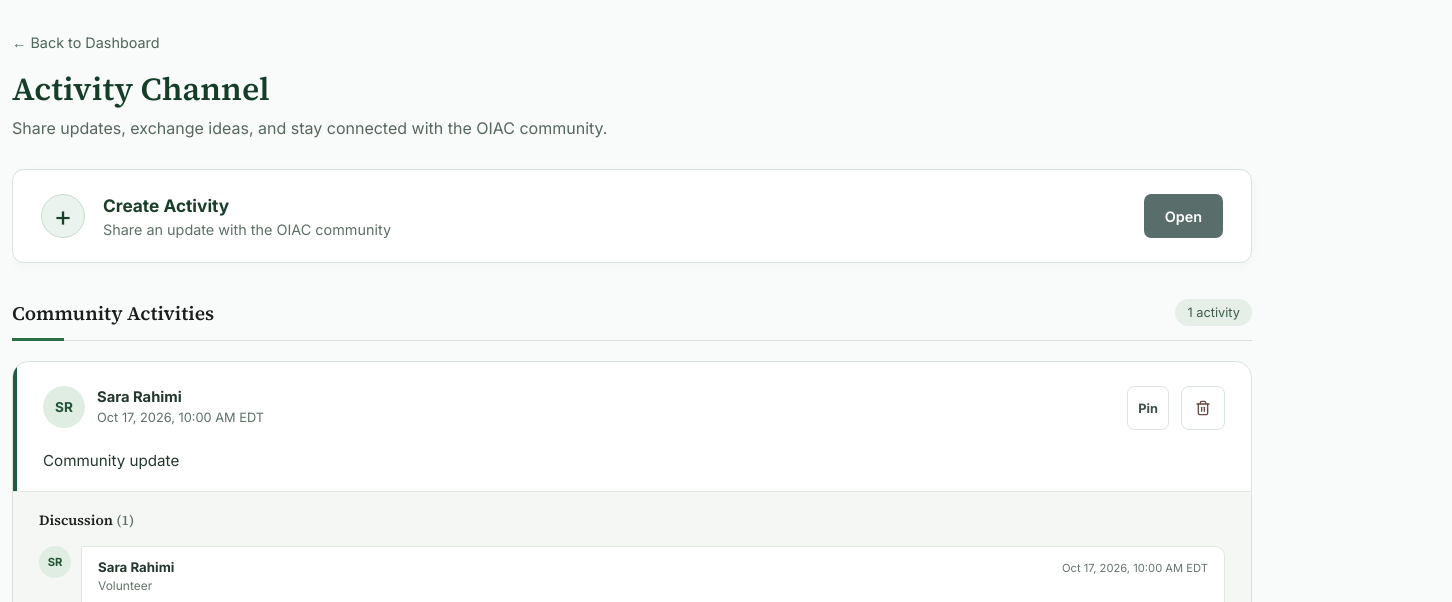
Test case: empty composer cannot submit; failed save retains content and retry identity
Click the button with aria-label "Create Activity" at point(1183, 216), box [1144,194,1223,238]
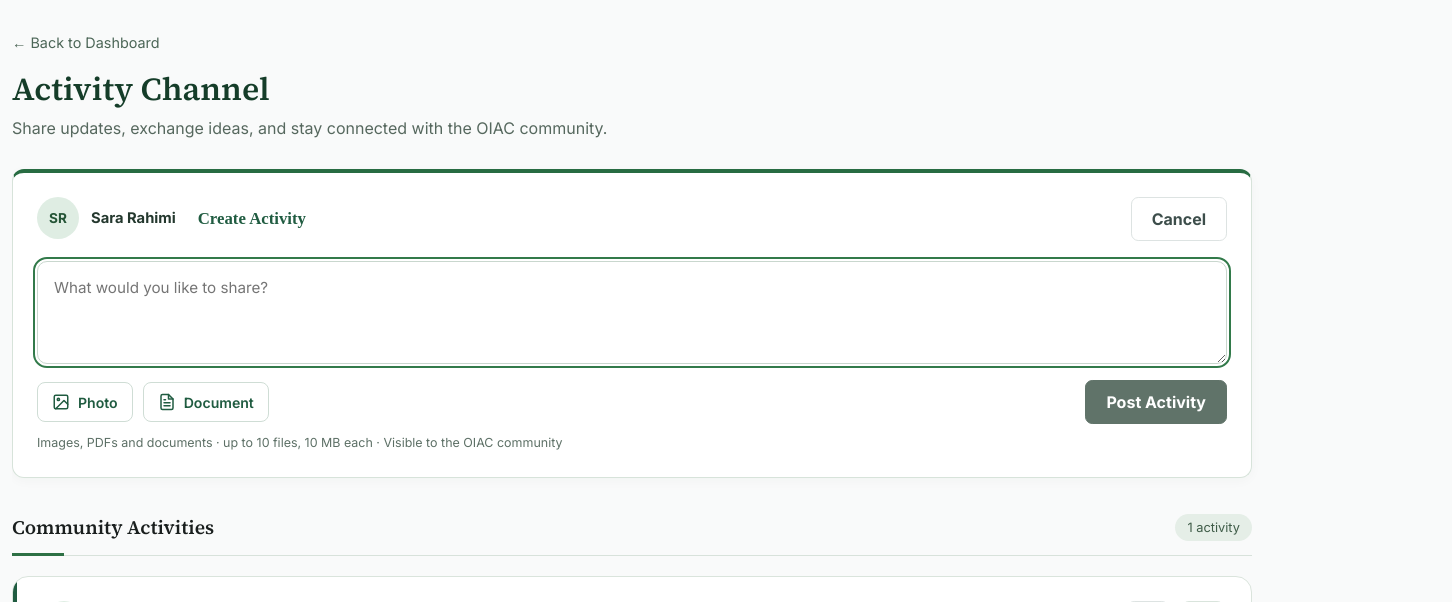
Check: the button "Post Activity" is disabled, box [1085,380,1227,424]
Type "New update" into the text box named "Activity content" at point(632, 313), box [37,261,1227,364]
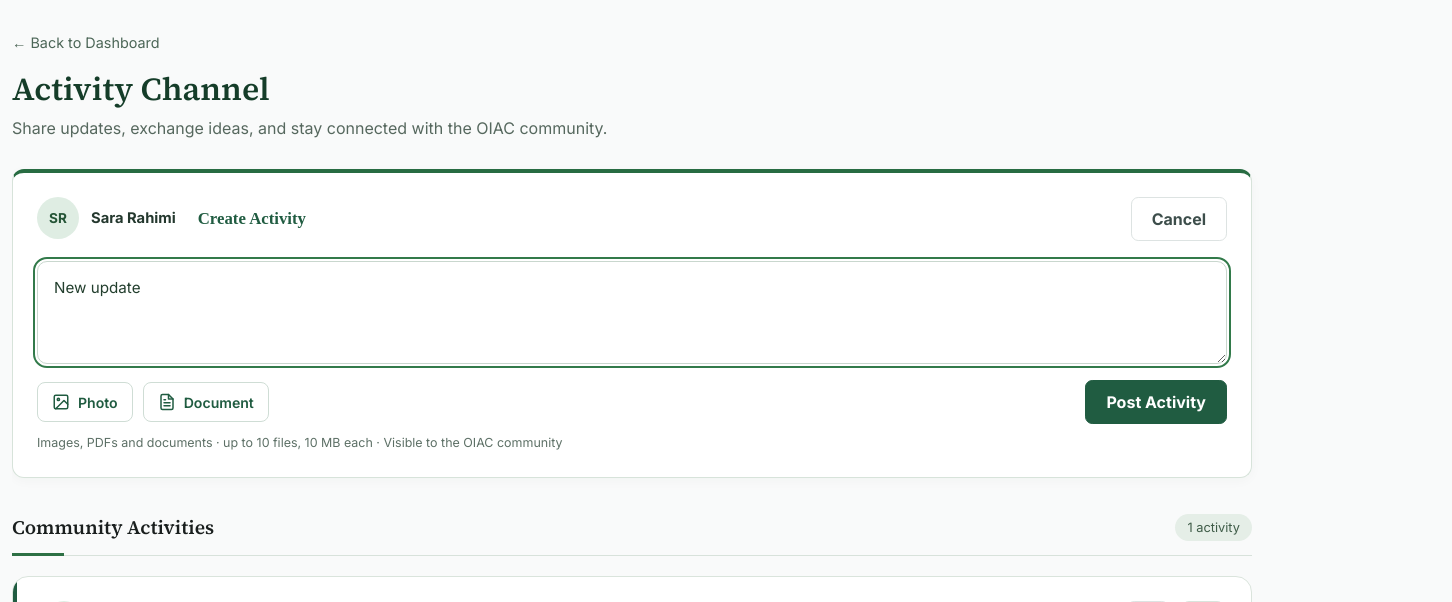
Click the button "Post Activity" at point(1156, 402), box [1085,380,1227,424]
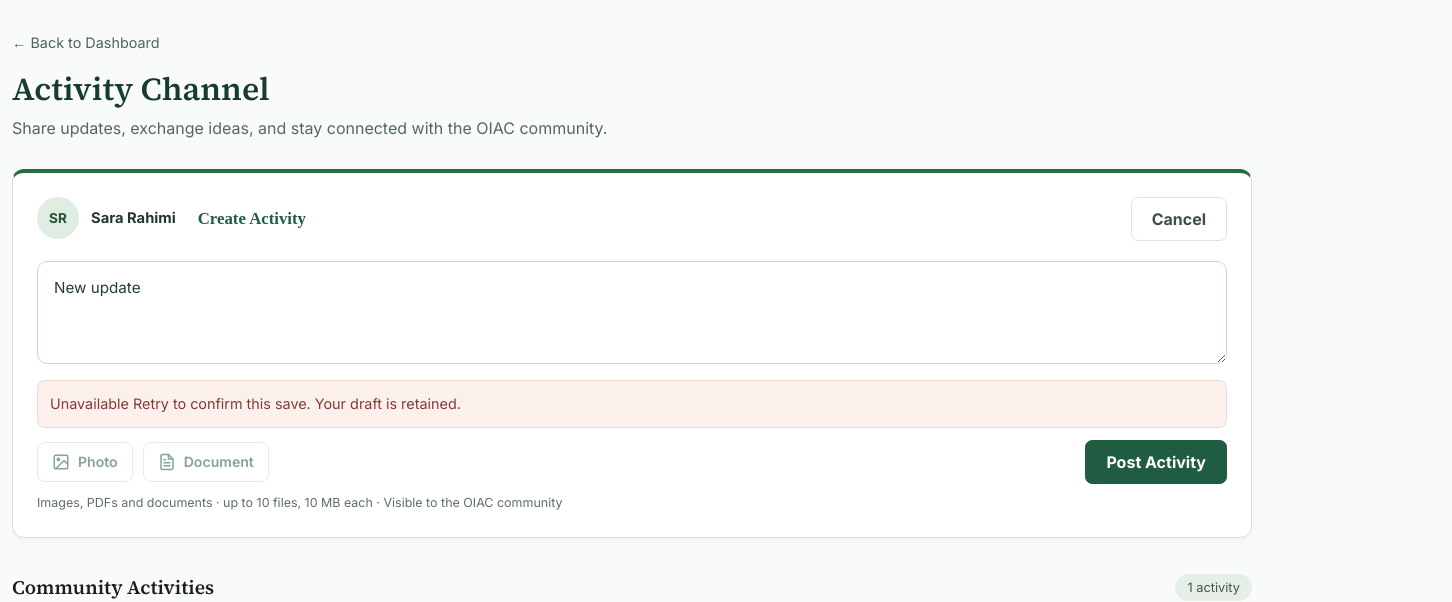
Check: the text "Unavailable" is shown, box [50,395,129,412]
Click the button "Post Activity" at point(1156, 462), box [1085,440,1227,484]
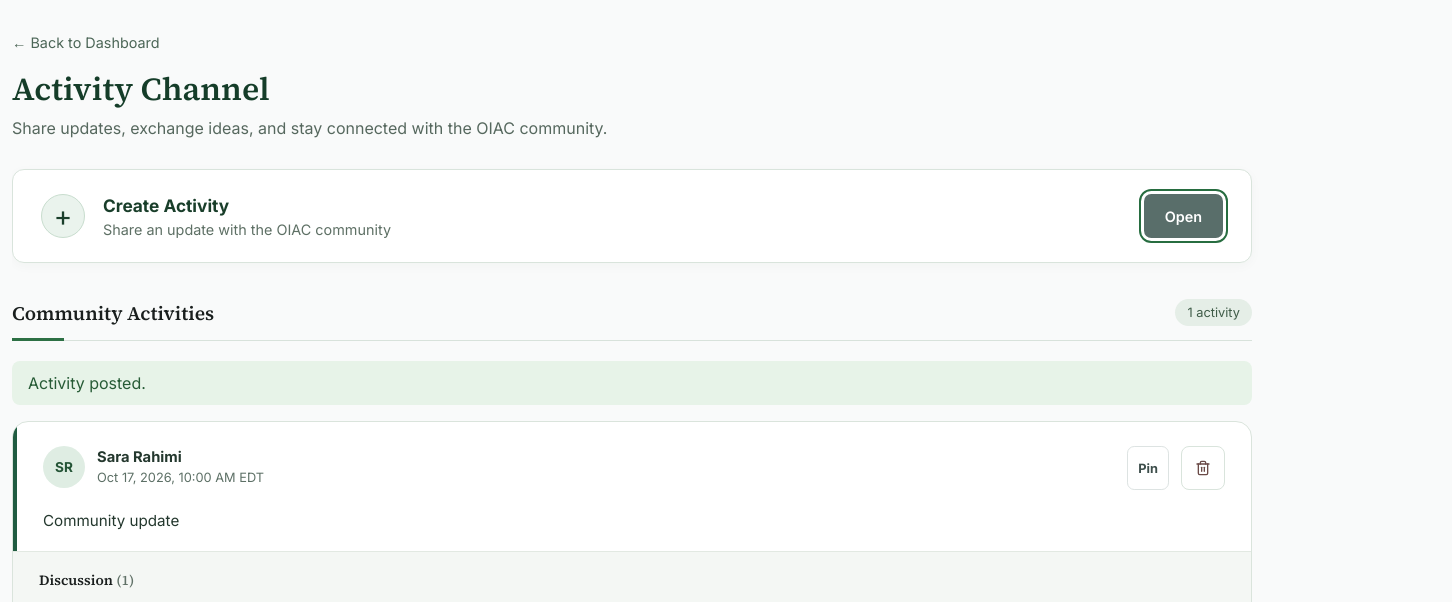
Check: the field labelled "Activity content" is not shown
Check: the text "Activity posted." is shown, box [12,361,1252,405]
